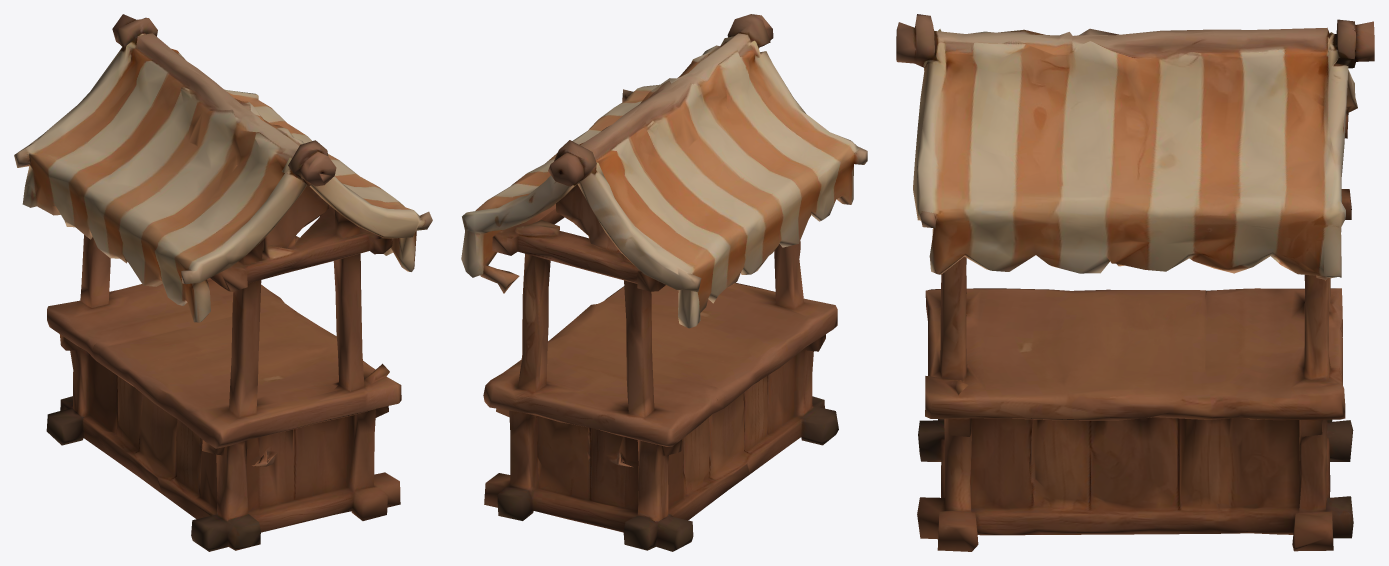
File: market_stall.glb
3 renders of one model, left to right at view 1: azimuth 30°, elevation 25°; view 2: azimuth 150°, elevation 25°; view 3: azimuth 270°, elevation 25°, orthographic. The views are drawn at different scales.
Parts seen in each view (by area): view 1: tripo_node_b900deae-fc49-427c-a975-8a88cb937f23; view 2: tripo_node_b900deae-fc49-427c-a975-8a88cb937f23; view 3: tripo_node_b900deae-fc49-427c-a975-8a88cb937f23.
Part boxes in pixels (x1,y1,x2,y2): tripo_node_b900deae-fc49-427c-a975-8a88cb937f23: (14,14,432,551); tripo_node_b900deae-fc49-427c-a975-8a88cb937f23: (461,14,867,551); tripo_node_b900deae-fc49-427c-a975-8a88cb937f23: (896,14,1374,551).
Bounding box in the file's own units: 0.6539 × 1 × 0.9069.
Materials: 1 (1 with a texture image).
